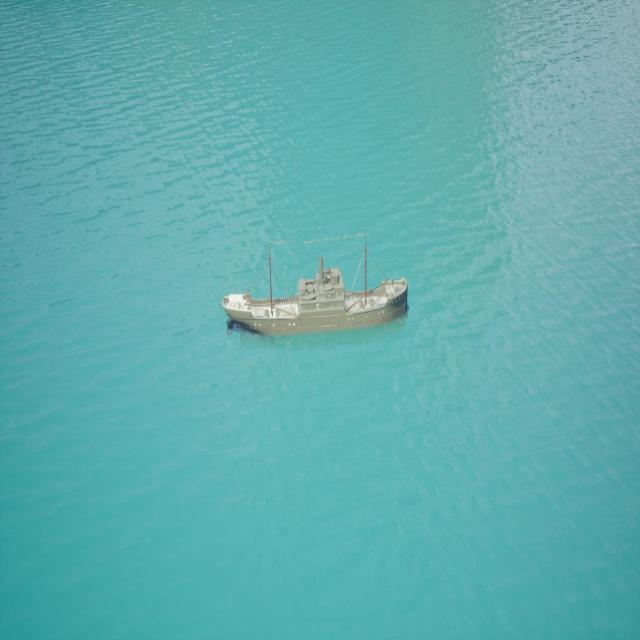fishing ship: (225, 236, 411, 339)
